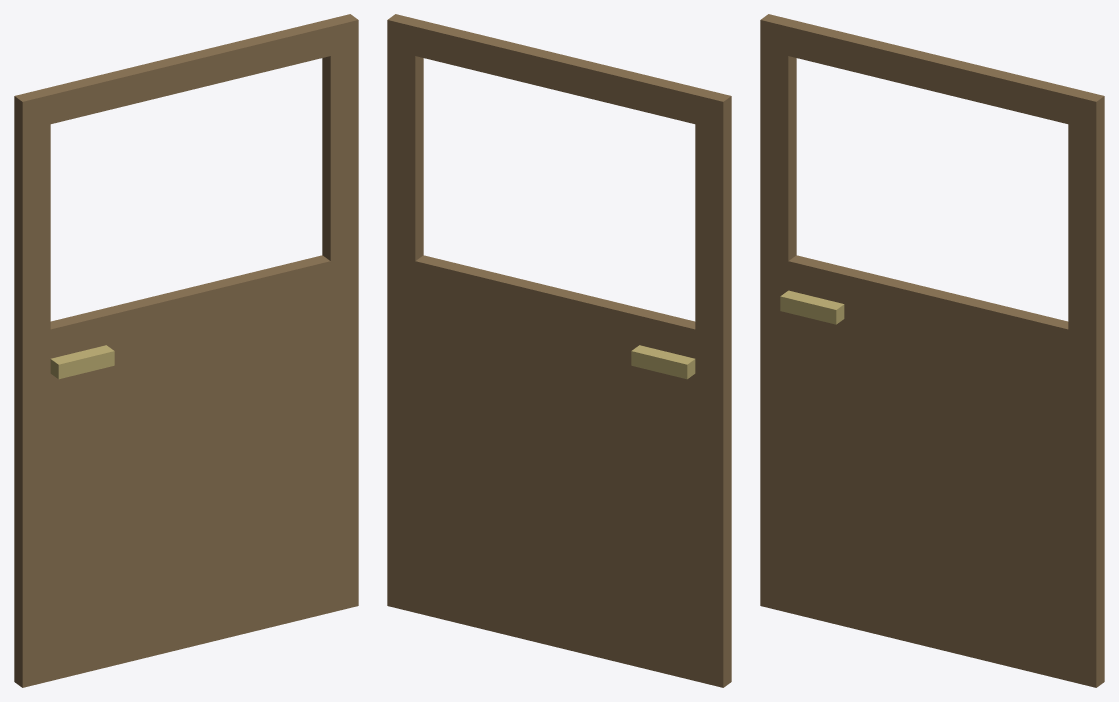
Rendered from Door01.gltf.
3 views of the same model, side by side, from view 1: azimuth 30°, elevation 25°; view 2: azimuth 150°, elevation 25°; view 3: azimuth 330°, elevation 25° (orthographic).
Bounding box in the file's own units: 24 × 40 × 3.
